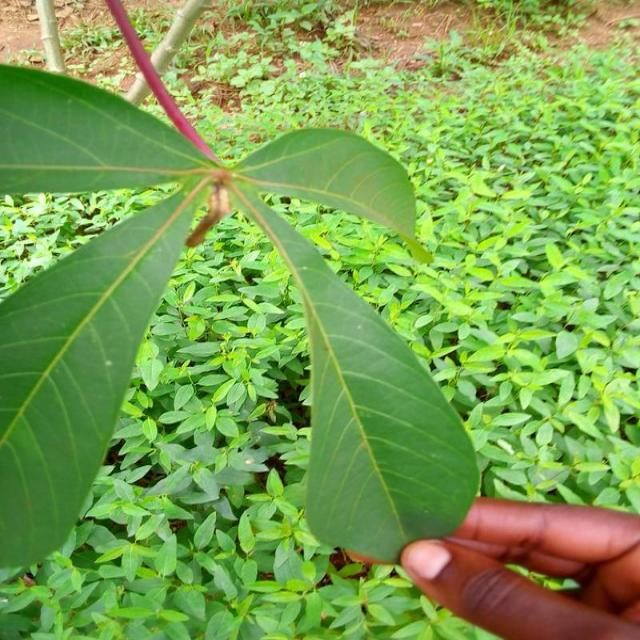cassava leaf: (1, 59, 482, 580), (231, 178, 482, 565), (1, 174, 215, 581)
